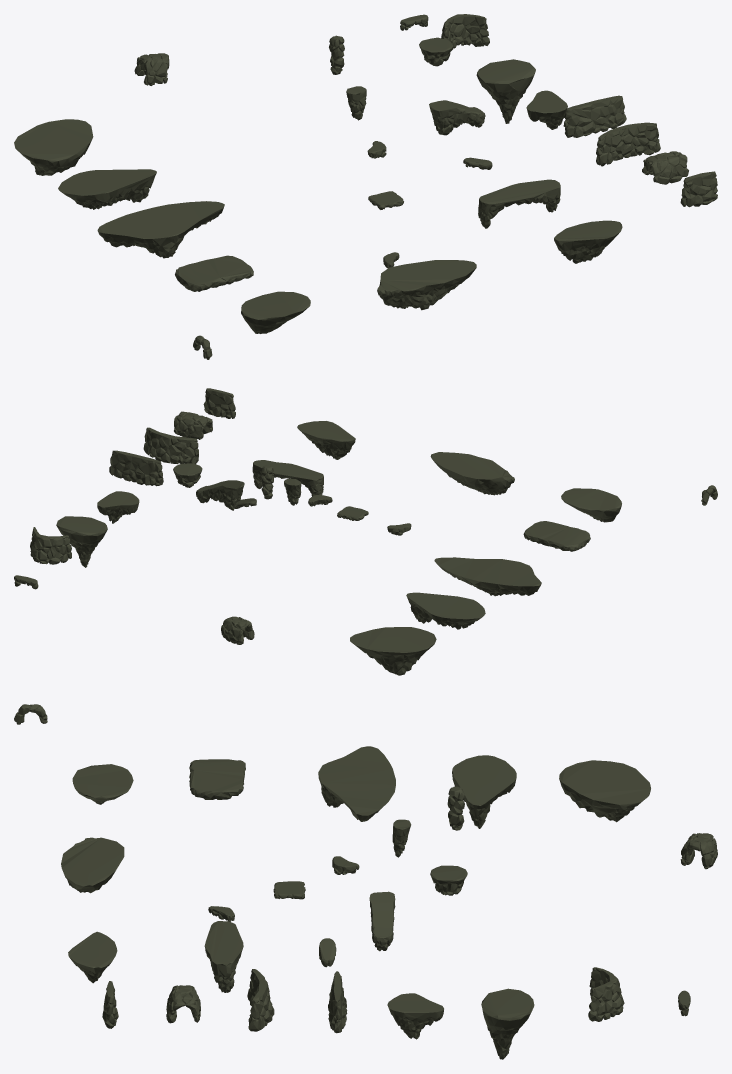
The model's file is RockWalls.glb.
3 views of the same model, one above another, from view 1: azimuth 30°, elevation 25°; view 2: azimuth 150°, elevation 25°; view 3: azimuth 270°, elevation 25° (orthographic). The views are drawn at different scales.
Visible parts, largest first — view 1: MasterBrush.006, MasterBrush.007, MasterBrush.008, MasterBrush.014, MasterBrush.022, MasterBrush.023, MasterBrush.021, MasterBrush.003, MasterBrush.009, MasterBrush.010, MasterBrush.004, MasterBrush.015 (+6 smaller); view 2: MasterBrush.006, MasterBrush.008, MasterBrush.007, MasterBrush.014, MasterBrush.003, MasterBrush.022, MasterBrush.004, MasterBrush.021, MasterBrush.010, MasterBrush.009, MasterBrush.023, MasterBrush.015 (+6 smaller); view 3: MasterBrush.006, MasterBrush.008, MasterBrush.014, MasterBrush.007, MasterBrush.022, MasterBrush.010, MasterBrush.023, MasterBrush.021, MasterBrush.024, MasterBrush.009, MasterBrush.015, MasterBrush.018 (+6 smaller).
Boxes of the visible parts, box(x1,y1,x2,y2) form: MasterBrush.006: box(97, 201, 224, 258); MasterBrush.007: box(377, 260, 476, 310); MasterBrush.008: box(14, 119, 93, 175); MasterBrush.014: box(58, 169, 156, 209); MasterBrush.022: box(476, 59, 535, 123); MasterBrush.023: box(478, 179, 560, 228); MasterBrush.021: box(241, 291, 310, 333); MasterBrush.003: box(596, 122, 660, 166); MasterBrush.009: box(554, 220, 622, 263); MasterBrush.010: box(175, 255, 253, 291); MasterBrush.004: box(563, 95, 626, 137); MasterBrush.015: box(441, 14, 489, 51); MasterBrush.006: box(434, 557, 541, 596); MasterBrush.008: box(350, 627, 436, 675); MasterBrush.007: box(430, 452, 514, 495); MasterBrush.014: box(406, 592, 485, 629); MasterBrush.003: box(143, 427, 198, 464); MasterBrush.022: box(56, 516, 107, 567); MasterBrush.004: box(109, 450, 163, 486); MasterBrush.021: box(561, 488, 621, 522); MasterBrush.010: box(523, 521, 590, 551); MasterBrush.009: box(297, 421, 355, 459); MasterBrush.023: box(252, 460, 323, 496); MasterBrush.015: box(30, 527, 71, 564); MasterBrush.006: box(318, 746, 395, 821); MasterBrush.008: box(559, 760, 650, 822); MasterBrush.014: box(452, 755, 516, 828); MasterBrush.007: box(61, 837, 124, 893); MasterBrush.022: box(481, 988, 534, 1059); MasterBrush.010: box(189, 759, 245, 799); MasterBrush.023: box(204, 921, 243, 992); MasterBrush.021: box(72, 764, 133, 804); MasterBrush.024: box(387, 993, 443, 1039); MasterBrush.009: box(68, 931, 117, 983); MasterBrush.015: box(588, 967, 624, 1021); MasterBrush.018: box(369, 891, 395, 951).
Size of the model in its own units: 199 by 49.94 by 191.
1 material, 1 textured.
